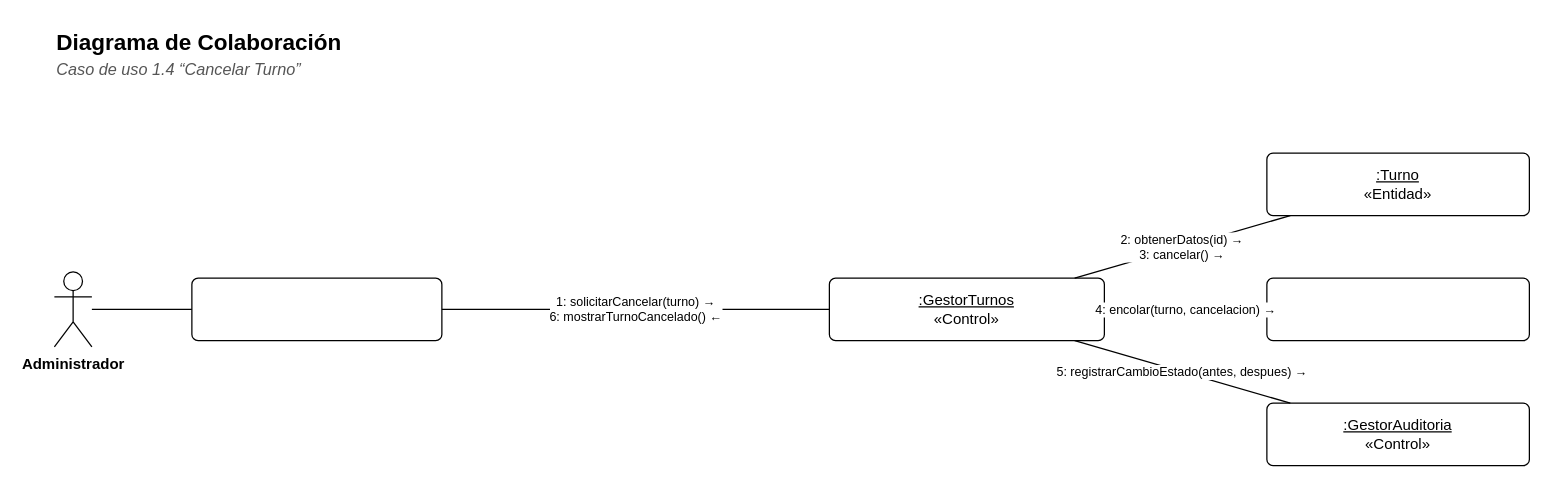
The diagram is 1551 pixels wide and 488 high, and some of its shapes have lost their labels. The shapes that lost their labels are listed below. From the top down, each one's box as (x1, y1, x2, y2) in pixels, then its label:
(191, 277, 442, 341): :UI Agenda «Interfaz»
(1266, 277, 1529, 341): :GestorNotificaciones «Control»
